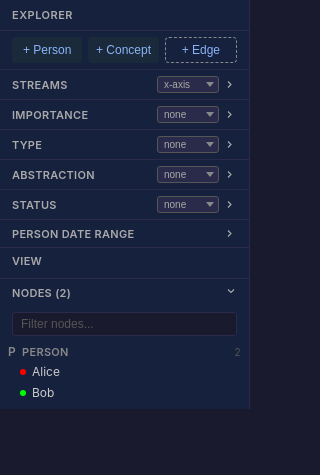
Sidebar › renders date range filter for nodes with date_from/date_to fields
Note: Expand Date Range section
Click the text "Person Date Range". click: (73, 234)
box: [12, 226, 134, 240]
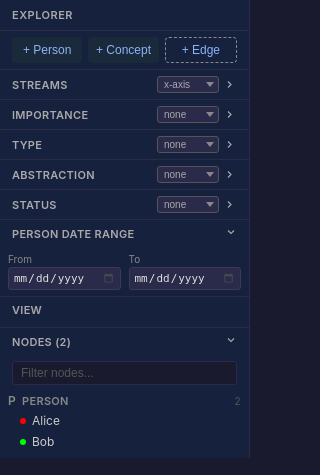
Check: the number of date fields is 2, box [8, 267, 120, 290]; [128, 267, 241, 290]
